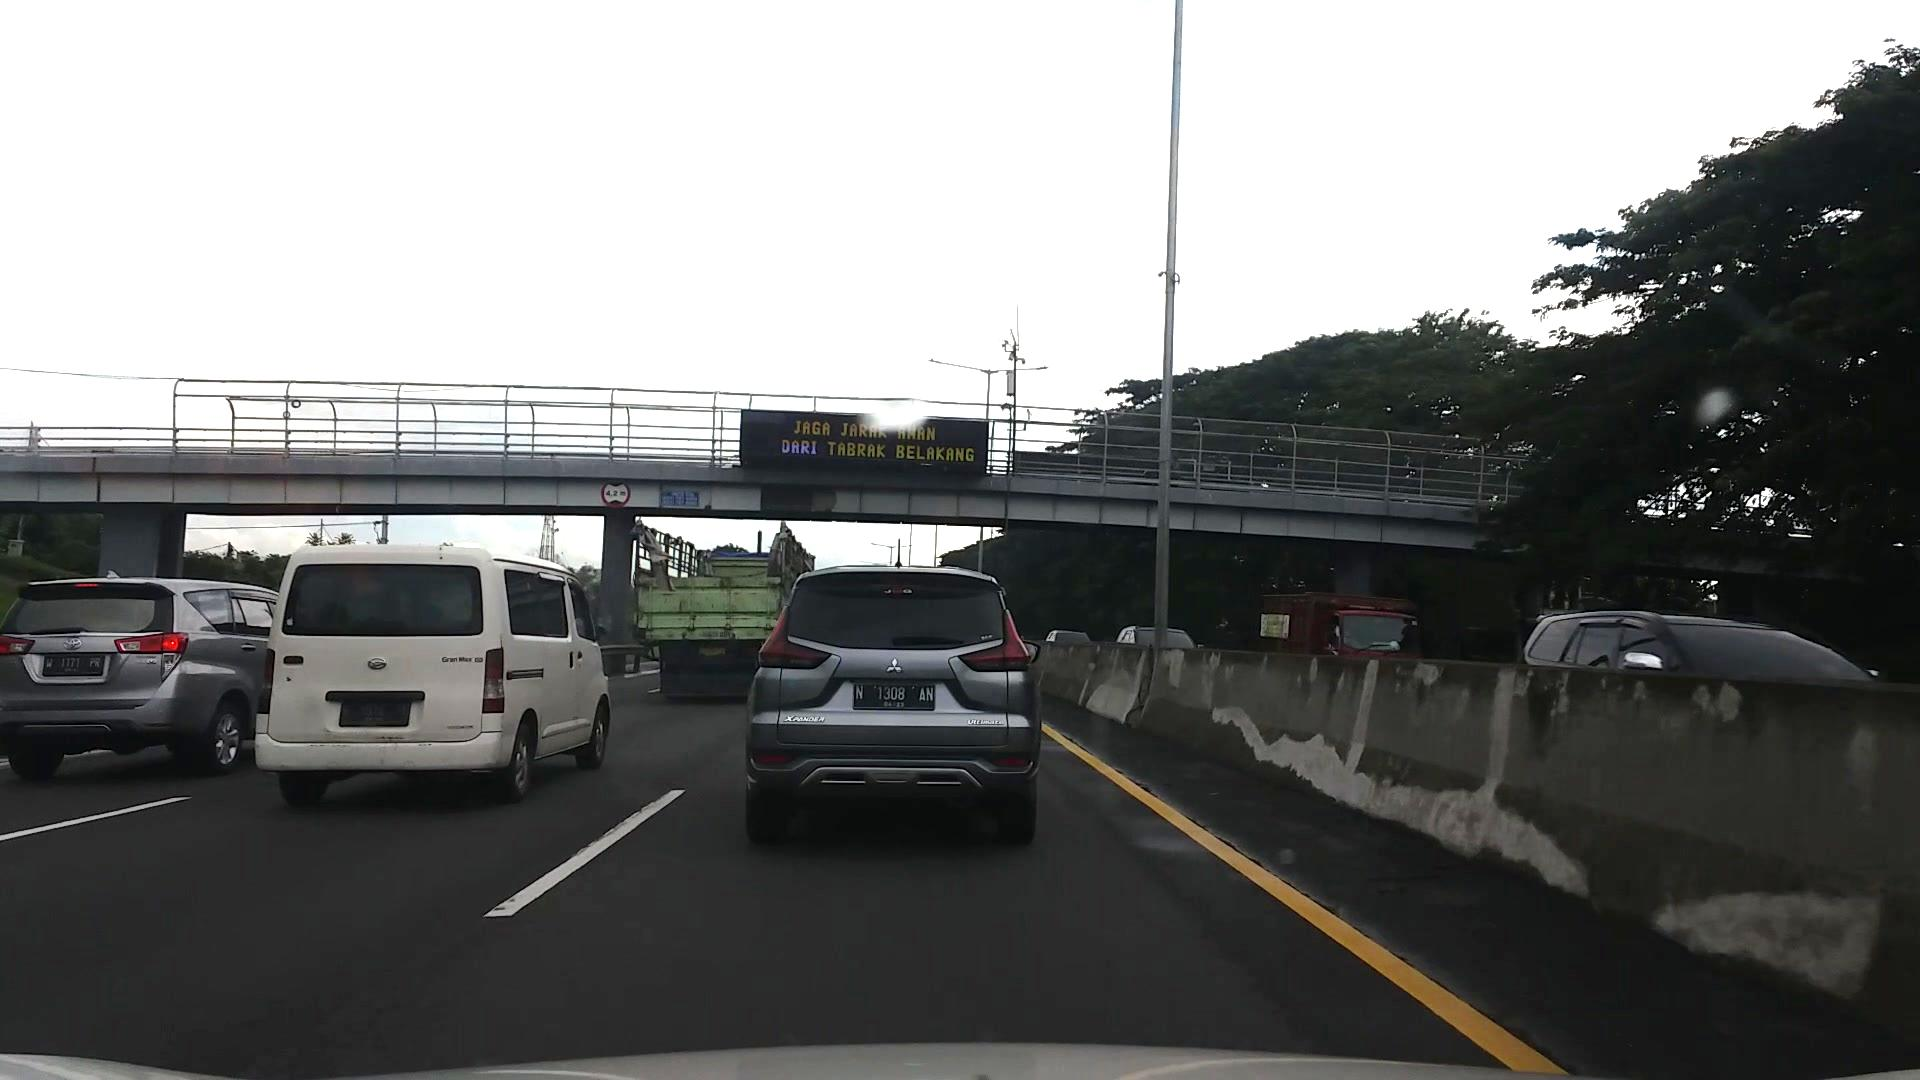plate_positive: (852, 683, 935, 711)
